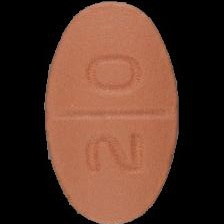33261-027: (0, 0, 224, 224)
